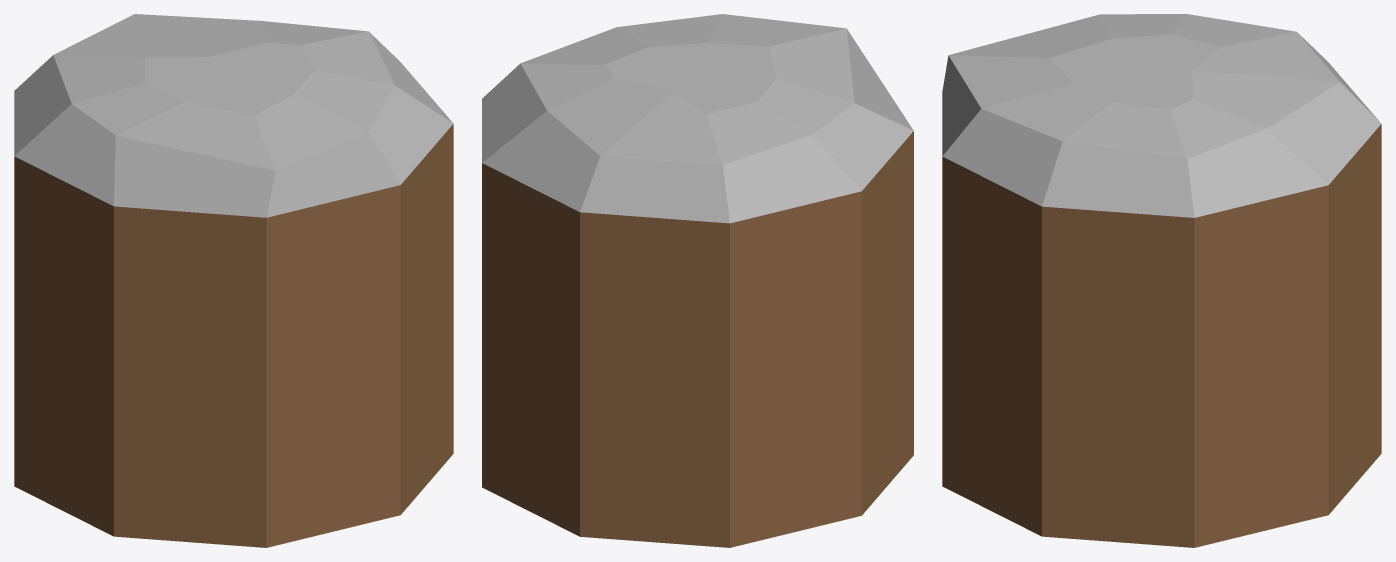
Rendered from Bench_3 Winter.fbx.
3 views of the same model, side by side, from view 1: azimuth 30°, elevation 25°; view 2: azimuth 150°, elevation 25°; view 3: azimuth 270°, elevation 25° (orthographic).
Parts seen in each view (by area): view 1: Bench3Winter_mesh; view 2: Bench3Winter_mesh; view 3: Bench3Winter_mesh.
Part boxes in pixels (x1=…): Bench3Winter_mesh: x1=14, y1=14, x2=453, y2=547; Bench3Winter_mesh: x1=482, y1=14, x2=913, y2=547; Bench3Winter_mesh: x1=942, y1=14, x2=1381, y2=547.
Size of the model in its own units: 55.44 by 52.56 by 54.6.
